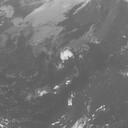cyclone: (43, 35, 97, 99)
